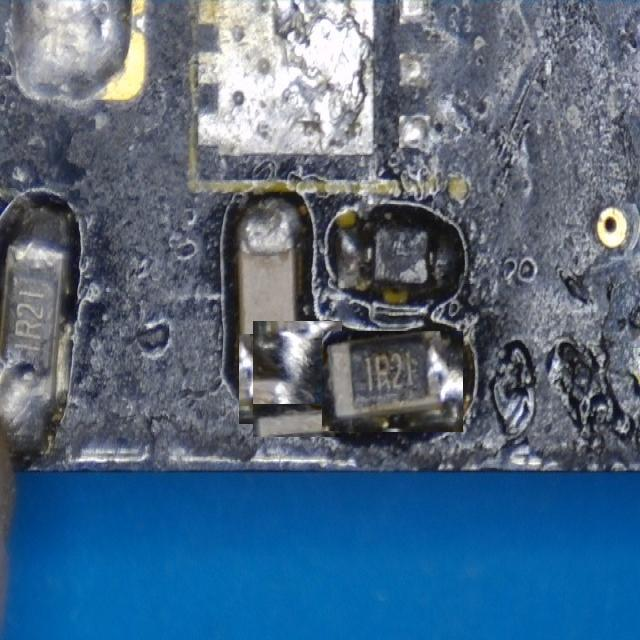Incorrect_installation: (322, 331, 463, 430)
Short_circuit: (252, 321, 342, 437)
